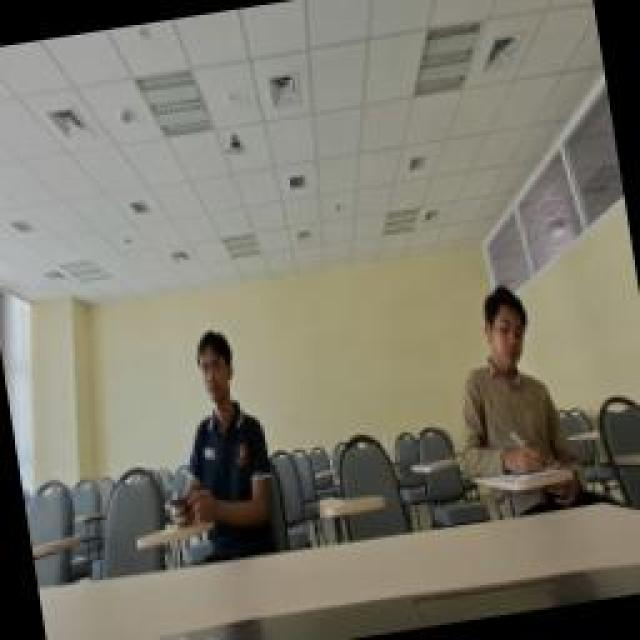study: (437, 275, 575, 483), (150, 320, 275, 518)
